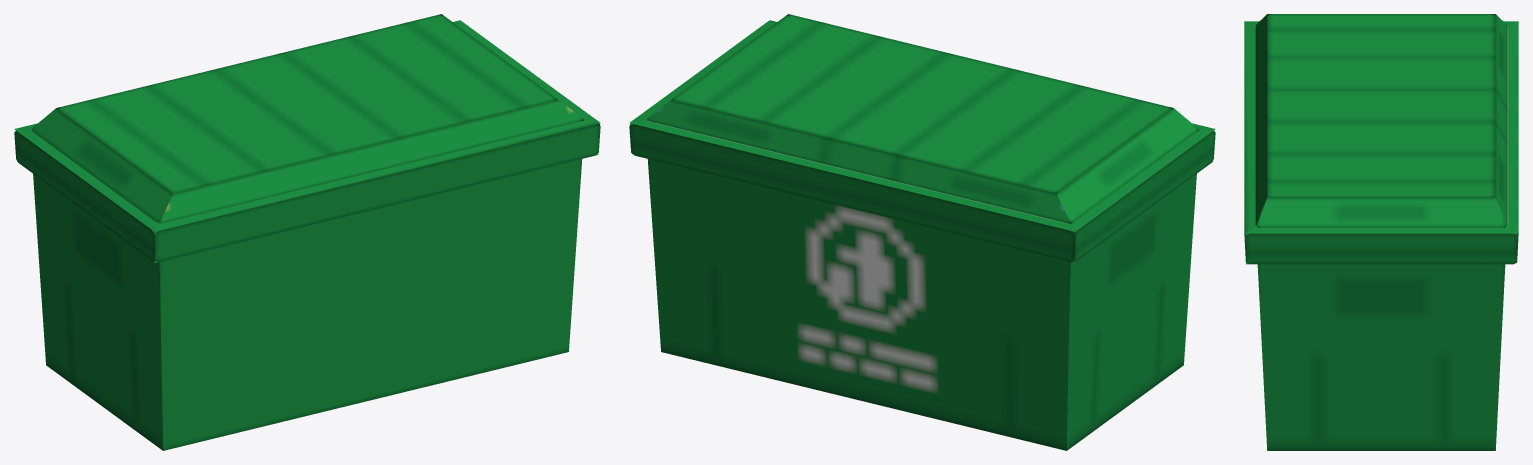
Rendered from Public Wastebasket.fbx.
3 renders of one model, left to right at view 1: azimuth 30°, elevation 25°; view 2: azimuth 150°, elevation 25°; view 3: azimuth 270°, elevation 25°, orthographic. The views are drawn at different scales.
Parts seen in each view (by area): view 1: cuboid; view 2: cuboid; view 3: cuboid.
Boxes of the visible parts, x1,y1,x2,y2 form: cuboid: [14, 14, 600, 450]; cuboid: [629, 14, 1215, 450]; cuboid: [1244, 14, 1518, 450].
Bounding box in the file's own units: 68.75 × 37.5 × 37.5.
1 material, 1 textured.
